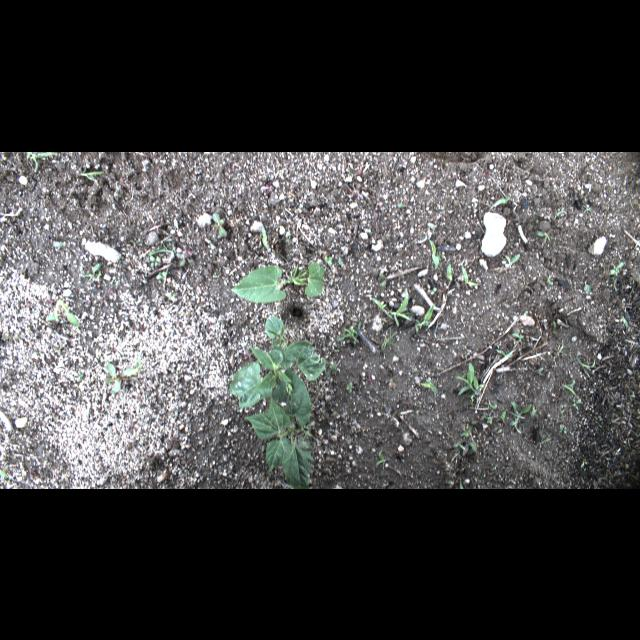crop: (244, 367, 314, 488), (230, 339, 326, 408), (230, 260, 326, 302), (265, 313, 295, 372)
weed: (369, 288, 416, 328), (454, 362, 484, 401), (105, 362, 142, 393), (45, 298, 81, 326), (26, 151, 58, 173), (511, 401, 532, 433), (416, 302, 436, 332), (339, 323, 361, 345), (211, 212, 227, 238), (380, 330, 398, 352), (580, 356, 596, 378), (80, 167, 104, 181), (464, 428, 478, 452), (428, 239, 439, 269), (462, 266, 478, 286), (82, 262, 101, 278), (258, 225, 270, 249), (534, 229, 552, 243), (562, 379, 576, 396), (504, 253, 520, 267), (1, 332, 22, 342), (178, 251, 192, 265), (609, 261, 623, 275), (375, 451, 387, 467), (419, 381, 438, 391), (53, 340, 65, 354), (170, 219, 182, 233), (170, 244, 182, 258), (149, 247, 177, 253), (278, 228, 290, 242), (379, 272, 389, 288), (452, 438, 466, 449), (494, 196, 511, 204), (74, 371, 86, 382), (328, 362, 337, 376), (470, 413, 484, 422), (513, 332, 523, 344), (324, 255, 332, 268), (344, 383, 354, 393), (157, 270, 167, 280), (150, 256, 160, 266), (129, 238, 141, 246), (446, 262, 452, 278), (572, 398, 580, 410), (497, 348, 507, 356), (1, 468, 8, 478), (558, 426, 566, 434), (580, 457, 586, 467), (33, 350, 43, 356), (546, 276, 552, 286), (594, 414, 602, 421), (168, 292, 175, 300), (613, 277, 617, 291), (458, 479, 464, 488), (431, 287, 437, 295), (584, 206, 592, 212), (486, 416, 492, 422), (399, 204, 407, 208), (334, 348, 341, 352), (560, 408, 564, 412), (562, 258, 566, 262)
